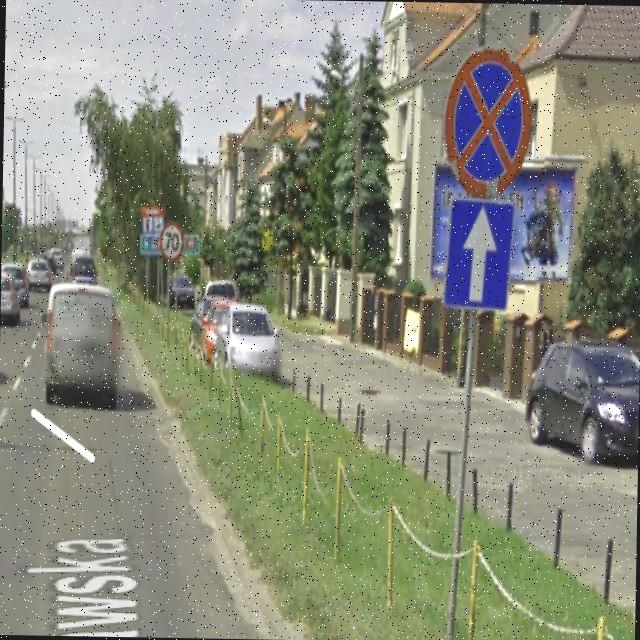Zakaz zatrzymywania sie: (442, 46, 532, 192)
